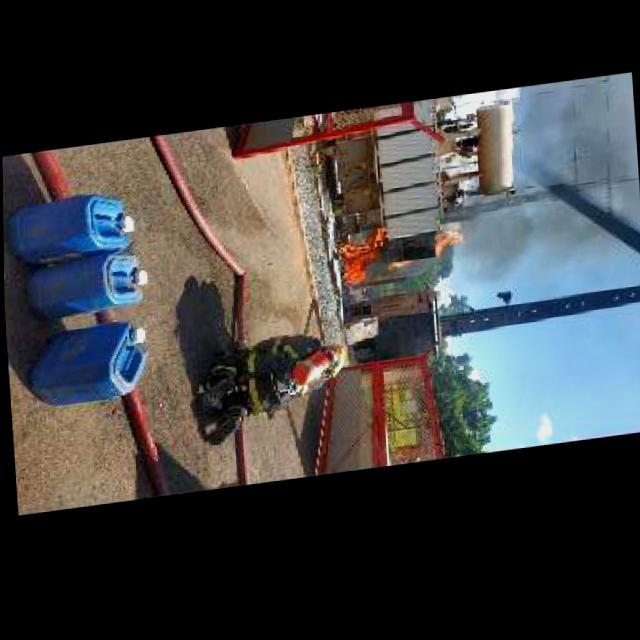helmet: (342, 233, 386, 295), (431, 233, 466, 265), (388, 265, 411, 278)
no_helmet: (452, 81, 640, 296)
